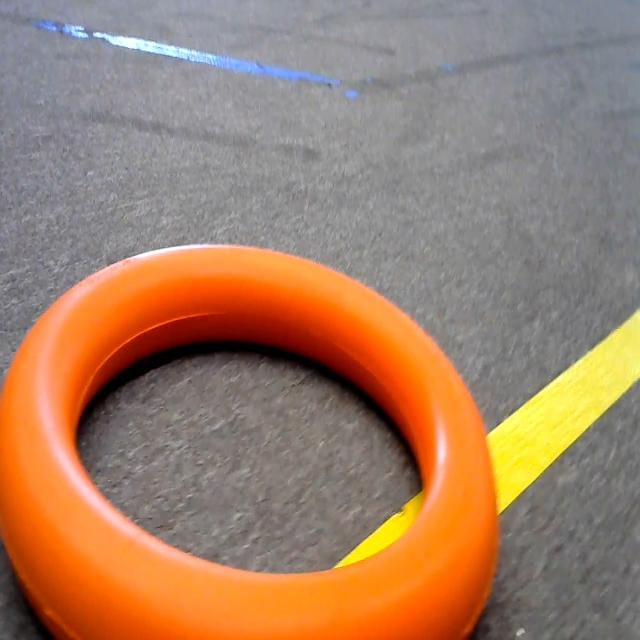note: (0, 210, 507, 640)
